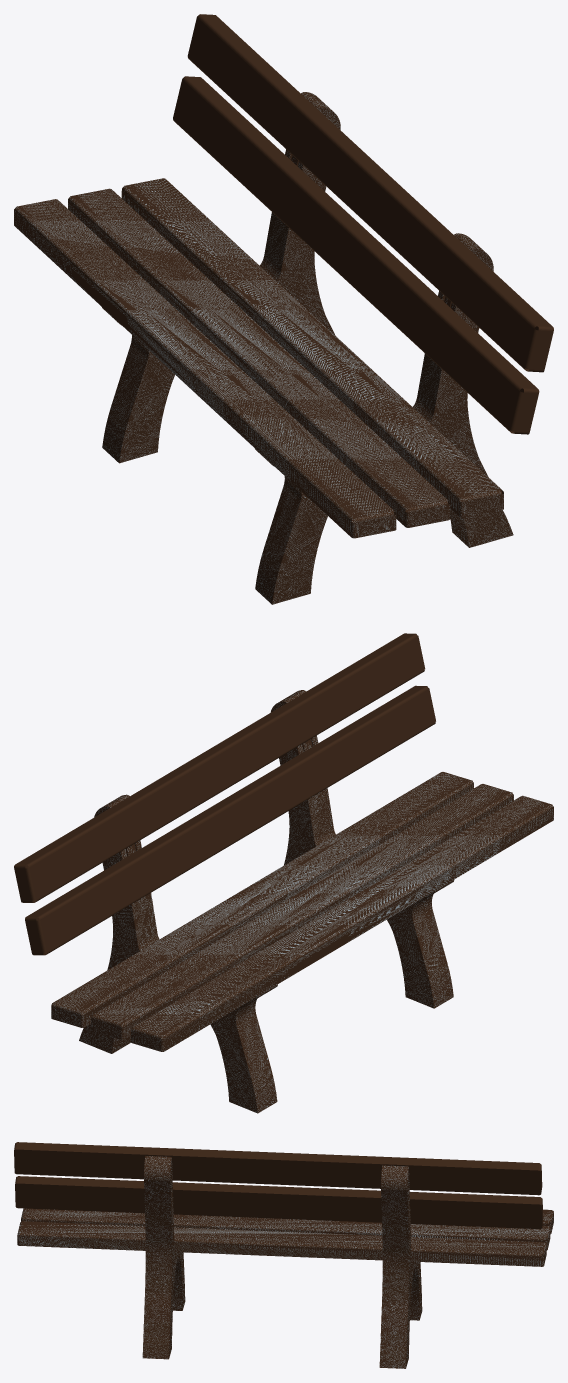
Rendered from Bench.dae.
3 renders of one model, top to bottom at view 1: azimuth 30°, elevation 25°; view 2: azimuth 150°, elevation 25°; view 3: azimuth 270°, elevation 25°, orthographic. The views are drawn at different scales.
Parts seen in each view (by area): view 1: SketchUp, UM336.stl; view 2: SketchUp, UM336.stl; view 3: UM336.stl, SketchUp.
Boxes of the visible parts, x1=… form: SketchUp: x1=14, y1=92, x2=513, y2=604; UM336.stl: x1=173, y1=14, x2=553, y2=434; SketchUp: x1=51, y1=690, x2=553, y2=1113; UM336.stl: x1=14, y1=633, x2=435, y2=955; UM336.stl: x1=14, y1=1142, x2=543, y2=1229; SketchUp: x1=17, y1=1156, x2=553, y2=1368.
Bounding box in the file's own units: 1.24 × 3.16 × 1.34.
